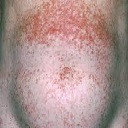Hives: (19, 5, 114, 55), (57, 66, 84, 86)
